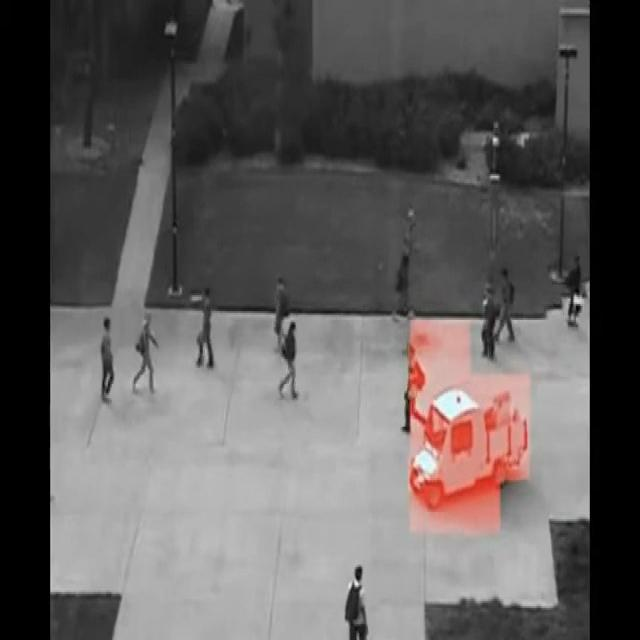anamoly: (407, 366, 571, 526)
